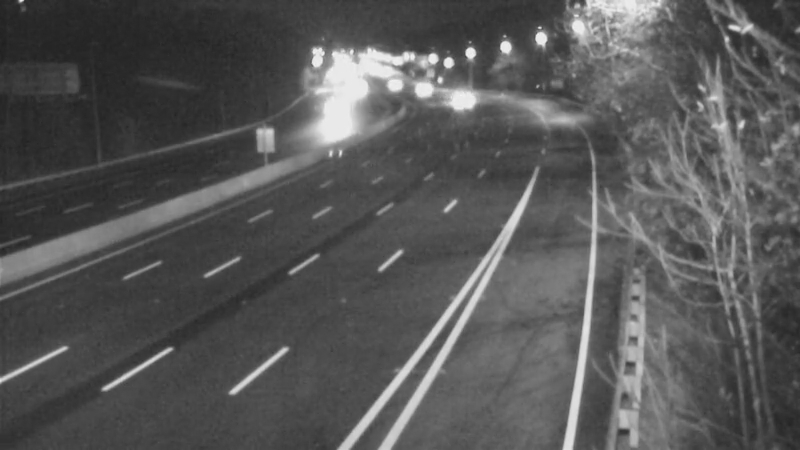vehicle: (444, 69, 494, 119)
